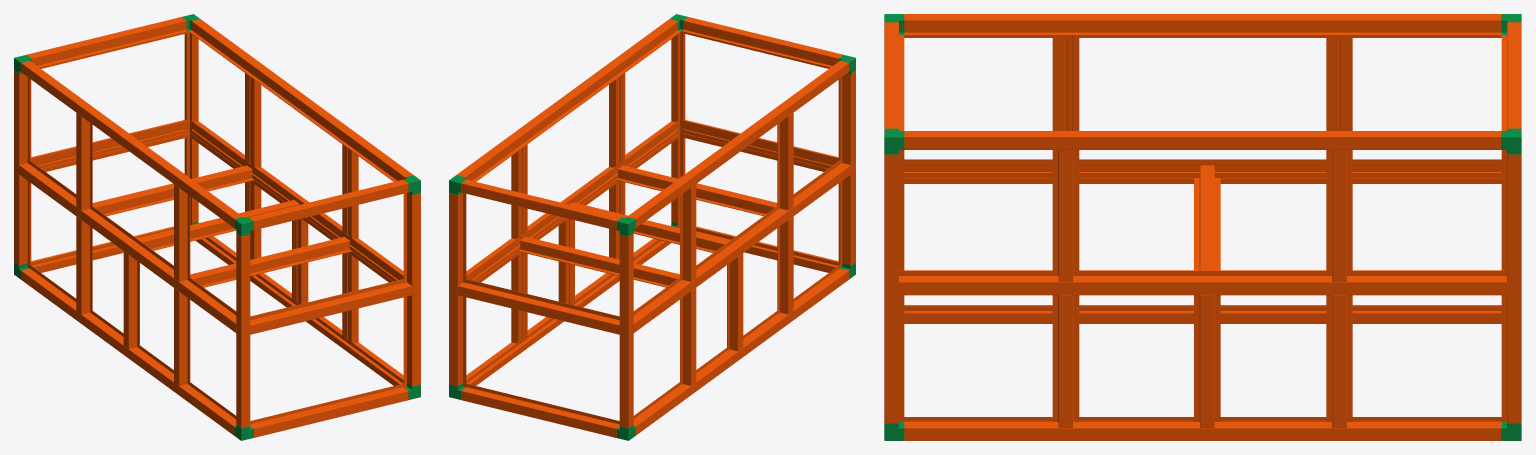
Rendered from rama1.FBX.
3 renders of one model, left to right at view 1: azimuth 30°, elevation 25°; view 2: azimuth 150°, elevation 25°; view 3: azimuth 270°, elevation 25°, orthographic. The views are drawn at different scales.
Parts seen in each view (by area): view 1: Object003; view 2: Object003; view 3: Object003.
Part boxes in pixels (x1,y1,x2,y2): Object003: (14, 14, 420, 440); Object003: (449, 14, 855, 440); Object003: (884, 14, 1521, 440).
Size of the model in its own units: 1000 by 1153 by 2190.
